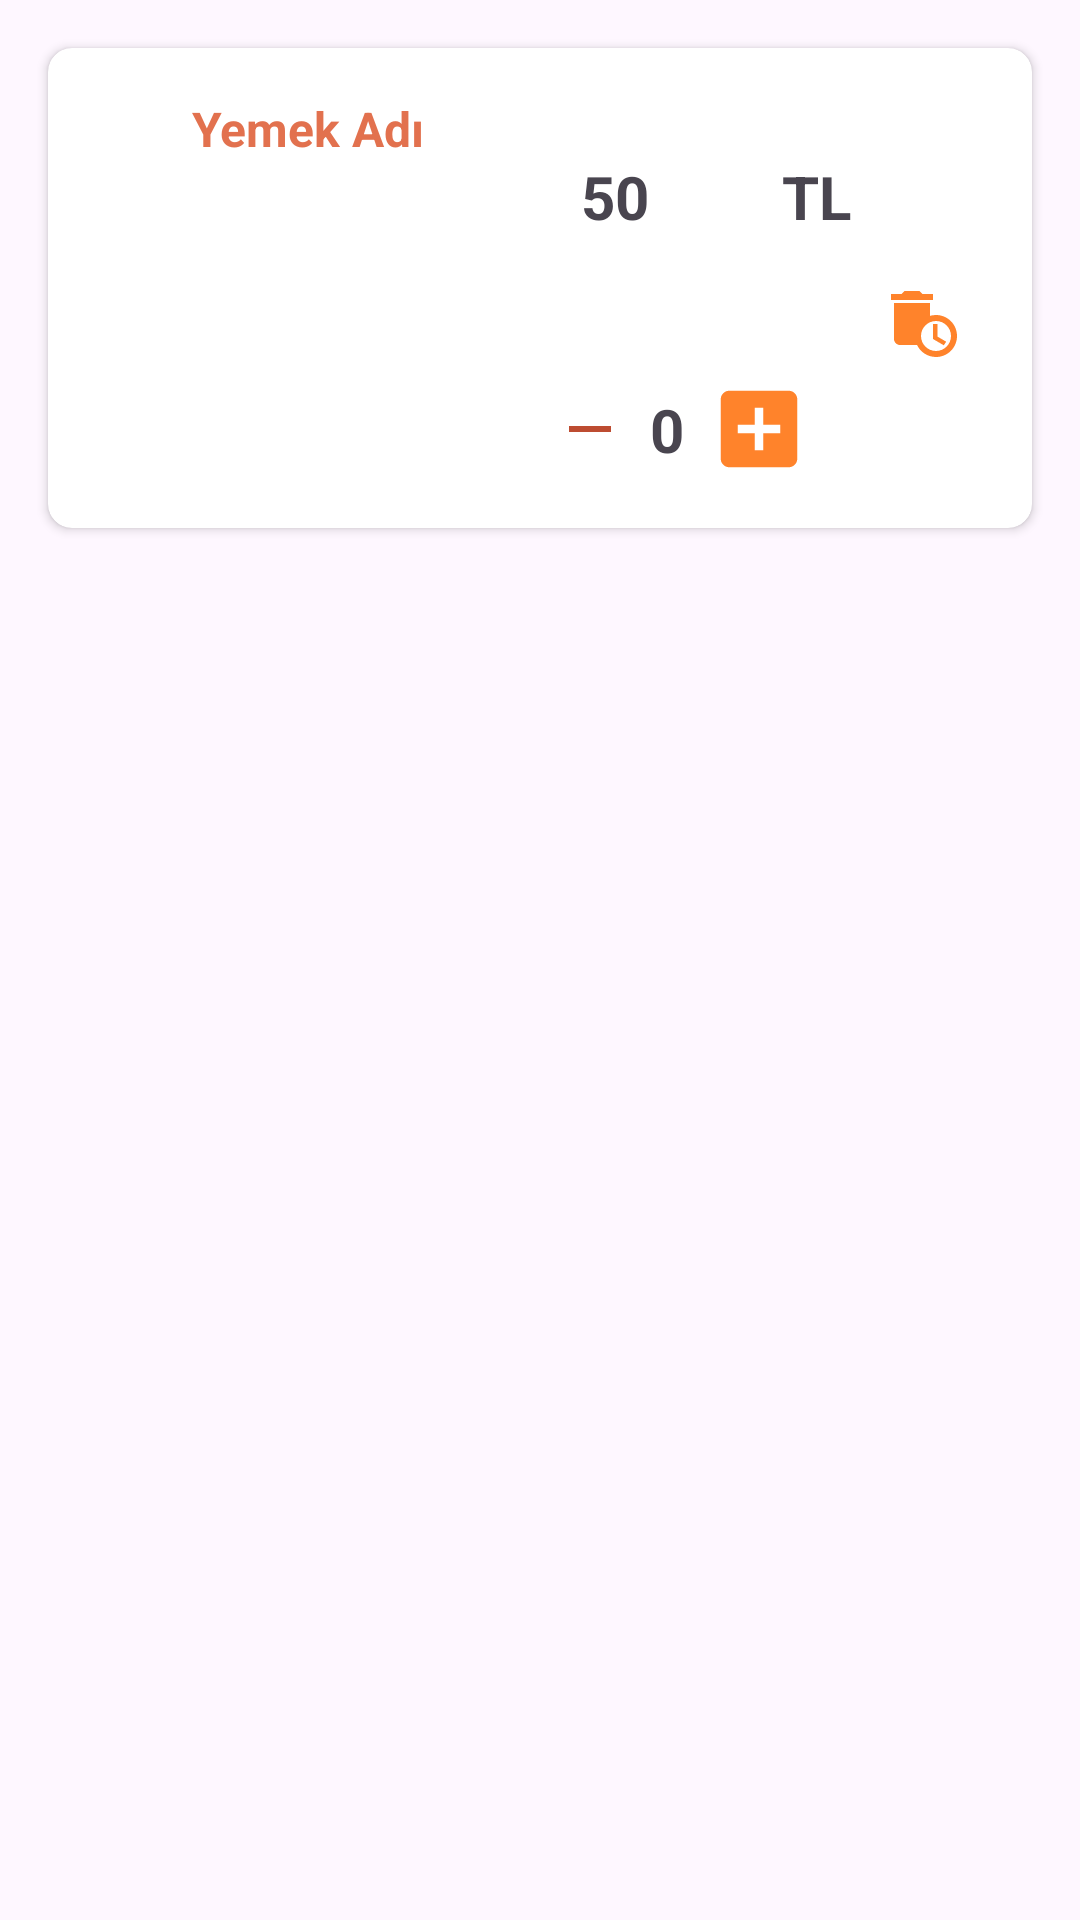

Icons on this 1080 × 1920 Android screen, each with its box as (x1, y1, x2, y2):
add: (720, 390, 798, 468)
delete: (891, 291, 957, 357)
